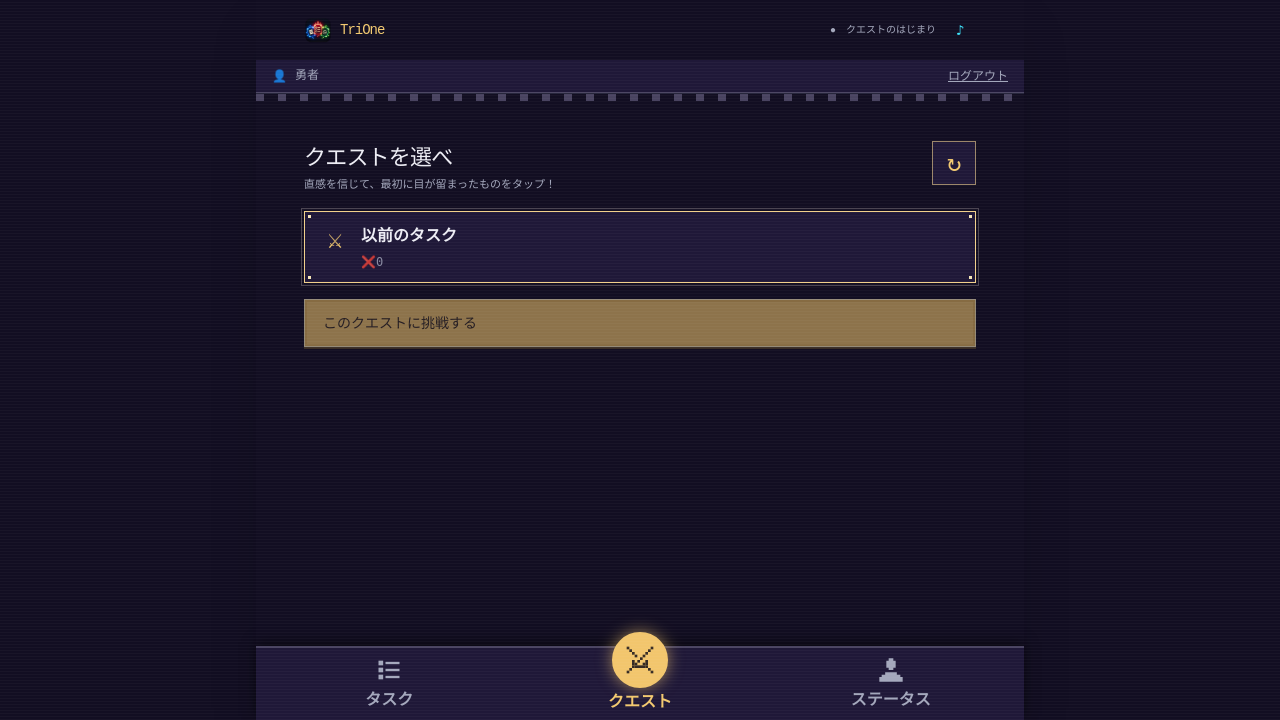
Test: ローカル抽選と確認済みキャッシュ › 削除前の提示保存が後から完了してもカードとキャッシュを復活させない
This screenshot has width=1280, height=720.
Check: the radio button is shown, box top-left (304, 211), bottom-right (976, 283)
Click the button named "再抽選する" at (954, 163), box top-left (932, 141), bottom-right (976, 185)
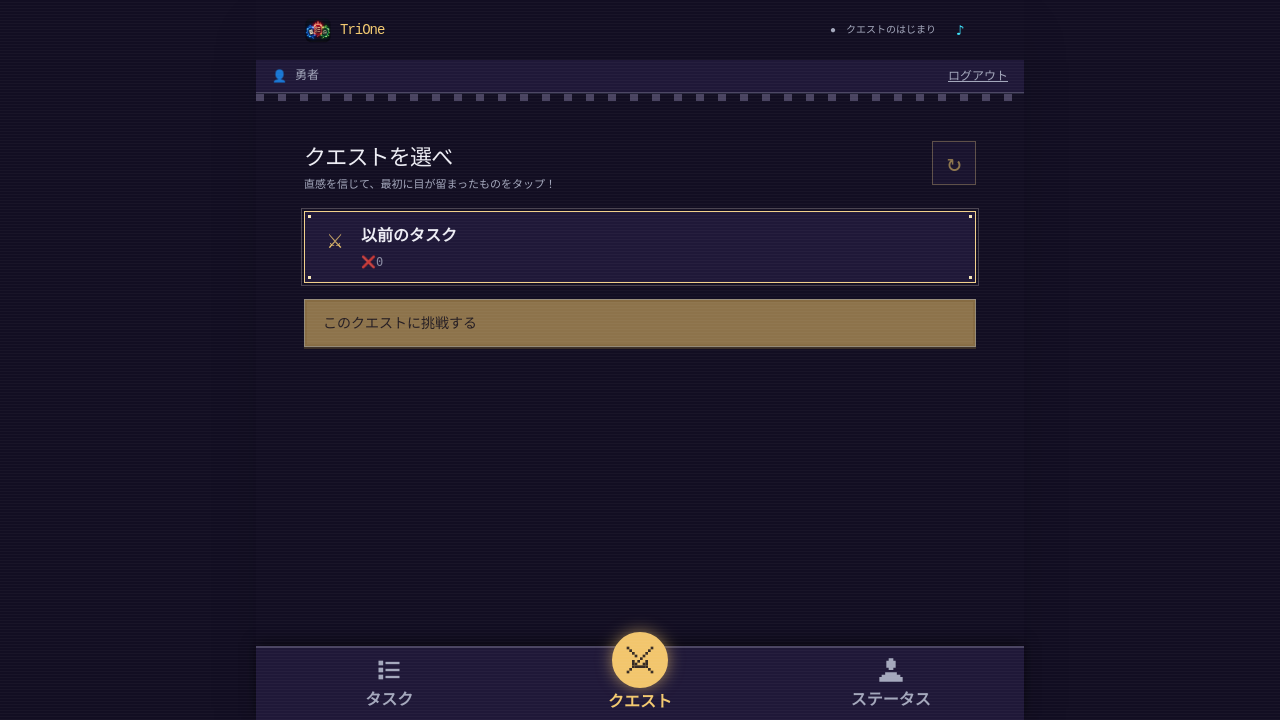
Click the button "タスク" at (389, 684), box top-left (264, 648), bottom-right (515, 719)
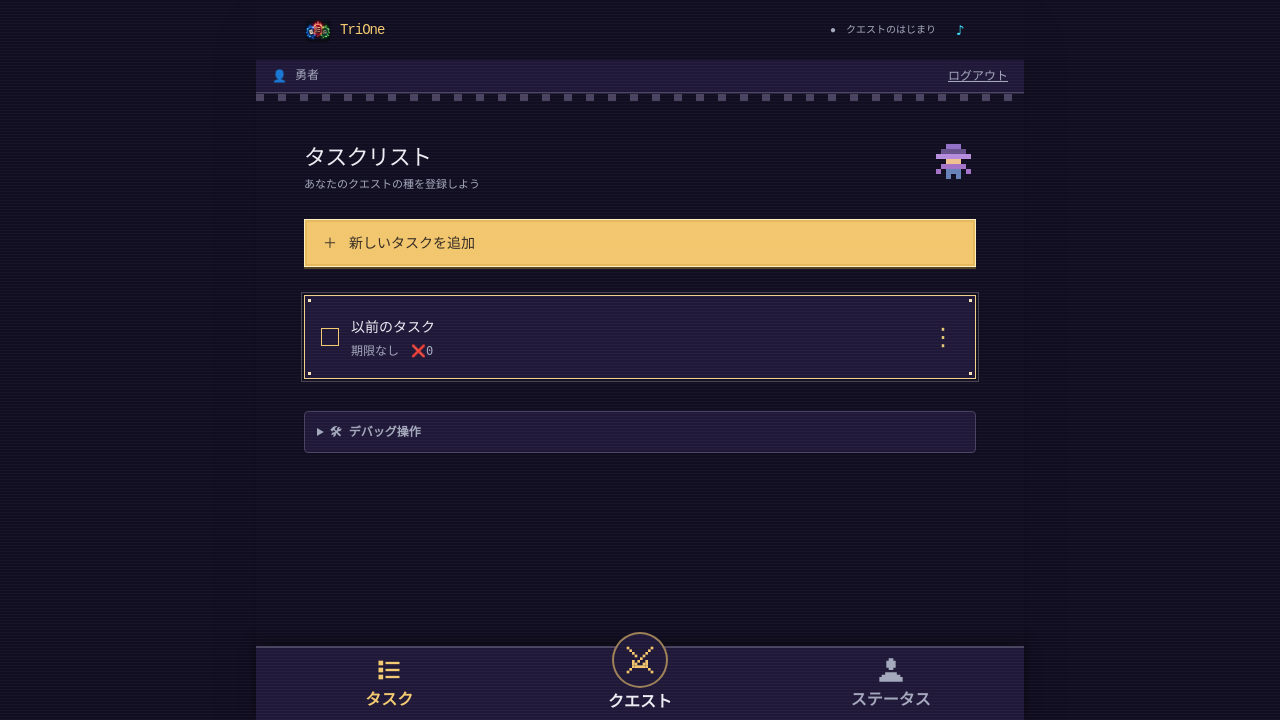
Click the heading "⋮" at (943, 337), box top-left (931, 323), bottom-right (955, 351)
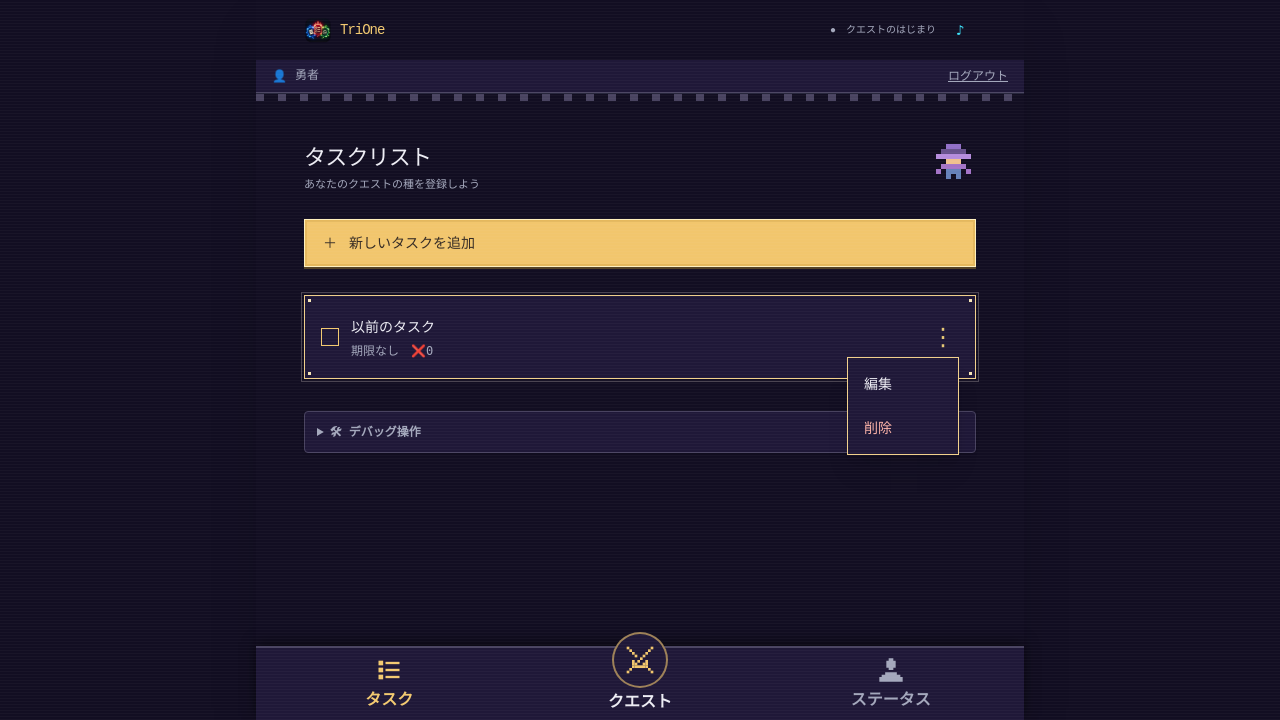
Click the button "削除" at (903, 428), box top-left (852, 406), bottom-right (954, 450)
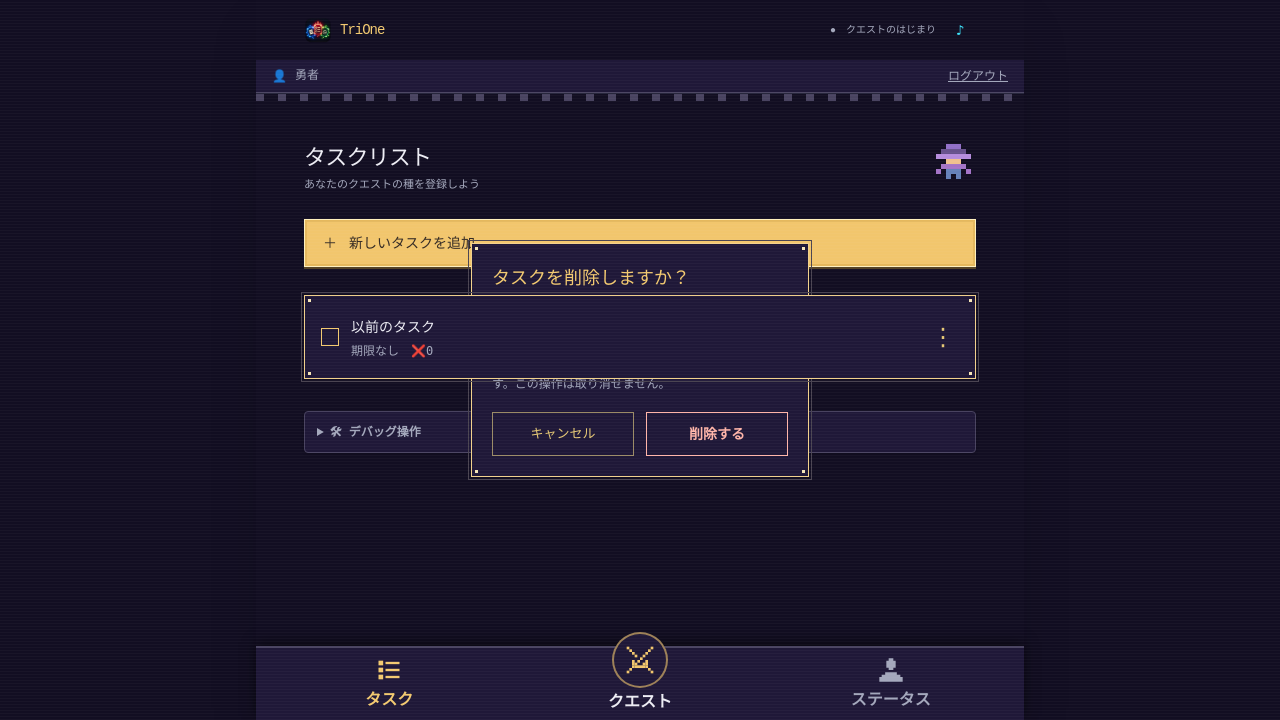
Click the button "削除する" at (717, 434), box top-left (646, 412), bottom-right (788, 456)
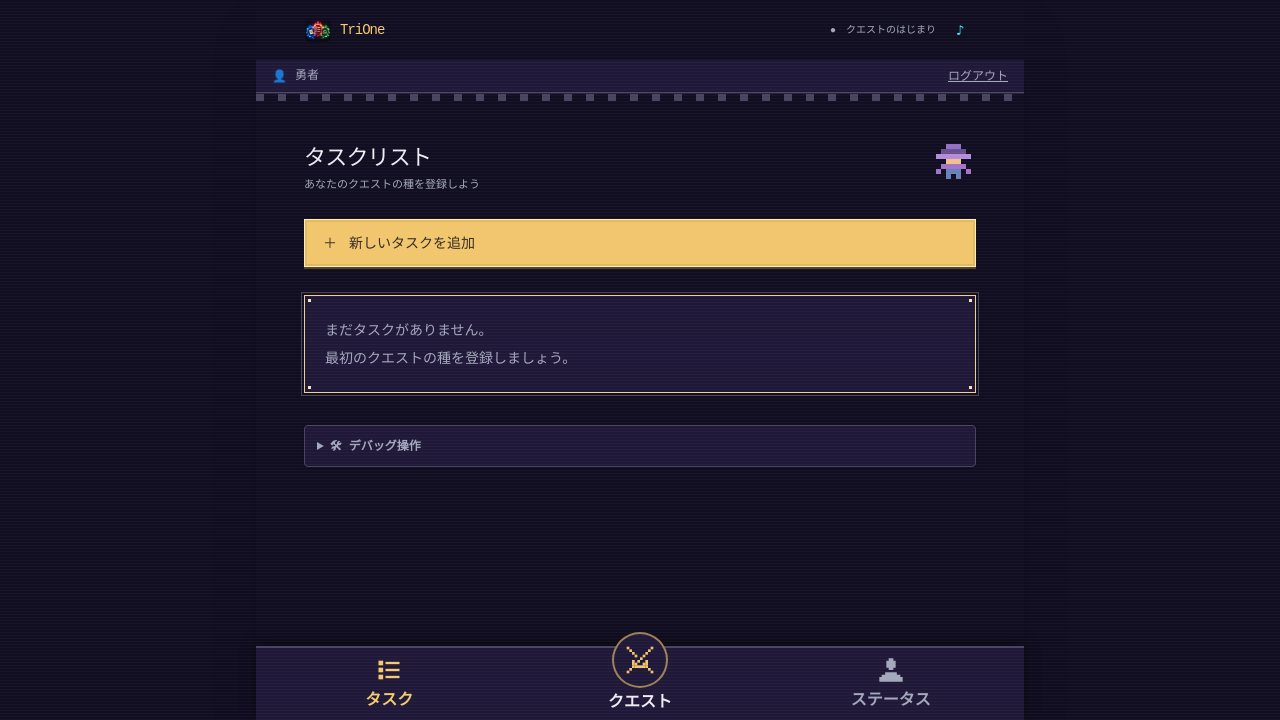
Check: the dialog is gone
Click the button "クエスト" at (640, 672), box top-left (515, 632), bottom-right (765, 712)
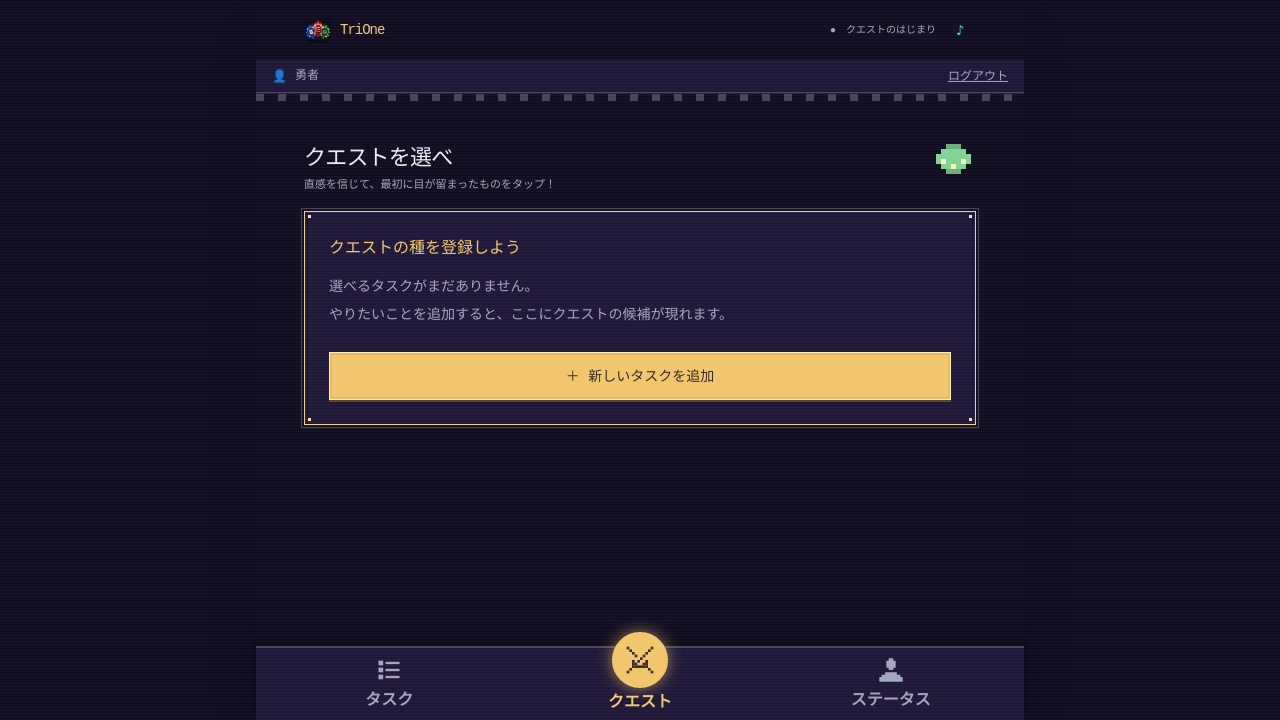
Check: the text "以前のタスク" is not shown
Check: the button "＋ 新しいタスクを追加" is shown, box top-left (329, 352), bottom-right (951, 400)
